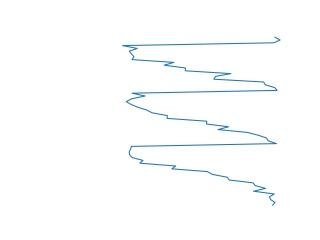distributaryMouthBar: (120, 33, 283, 207)
